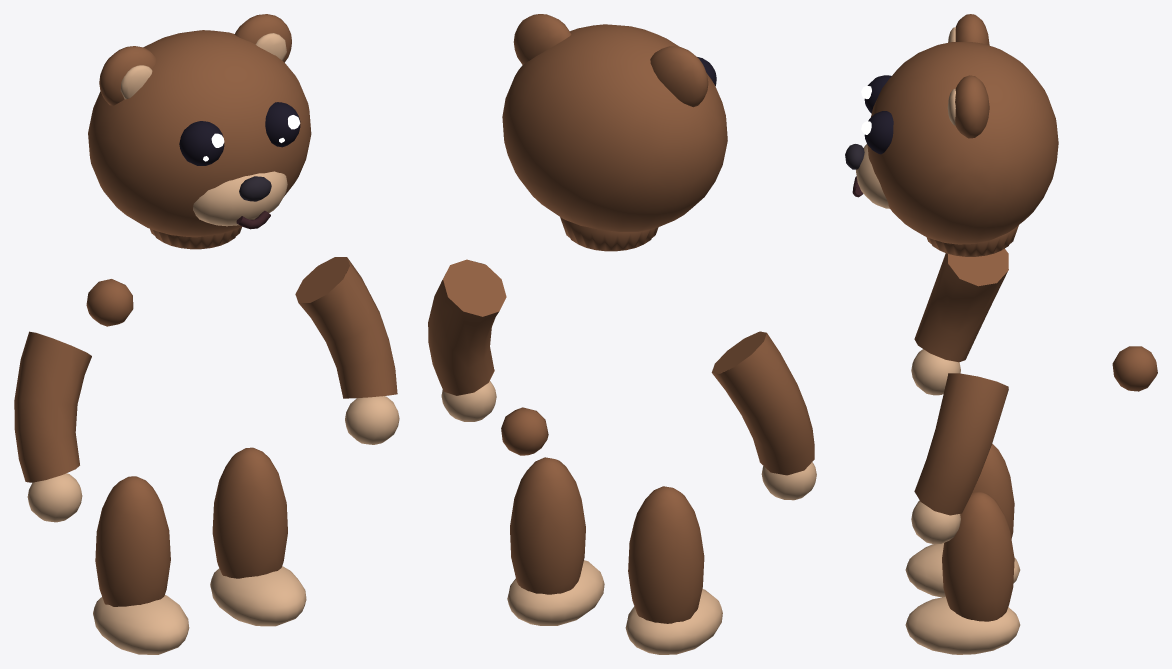
Rendered from tb_dyr_bjorn.glb.
3 views of the same model, side by side, from view 1: azimuth 30°, elevation 25°; view 2: azimuth 150°, elevation 25°; view 3: azimuth 270°, elevation 25° (orthographic). The views are drawn at different scales.
Visible parts, largest first — view 1: hode, bein_hf, bein_vf, vinge_v, vinge_h, hale; view 2: hode, bein_vf, bein_hf, vinge_v, vinge_h, hale; view 3: hode, bein_hf, vinge_h, vinge_v, bein_vf, hale.
Boxes of the visible parts, x1,y1,x2,y2 form: hode: [88, 14, 311, 249]; bein_hf: [210, 447, 306, 626]; bein_vf: [93, 476, 189, 654]; vinge_v: [14, 331, 91, 522]; vinge_h: [295, 257, 399, 444]; hale: [86, 279, 133, 326]; hode: [502, 14, 727, 251]; bein_vf: [625, 486, 722, 654]; bein_hf: [507, 457, 604, 625]; vinge_v: [711, 331, 816, 500]; vinge_h: [428, 259, 506, 421]; hale: [501, 407, 548, 455]; hode: [845, 14, 1058, 256]; bein_hf: [905, 491, 1020, 654]; vinge_h: [911, 373, 1008, 543]; vinge_v: [911, 248, 1008, 395]; bein_vf: [905, 443, 1020, 597]; hale: [1112, 346, 1157, 391].
Size of the model in its own units: 1.07 by 1.65 by 0.8175.
